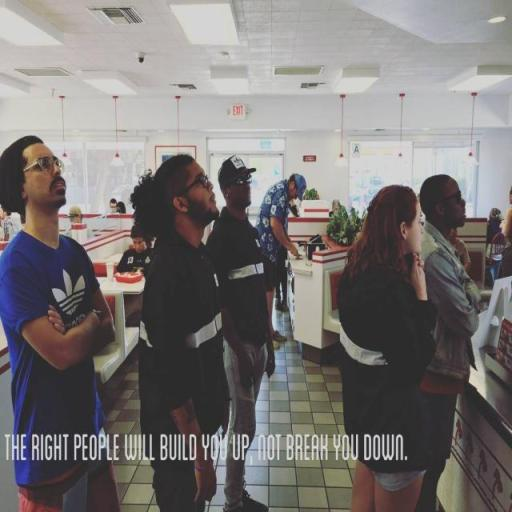Adidas: (46, 266, 89, 327)
